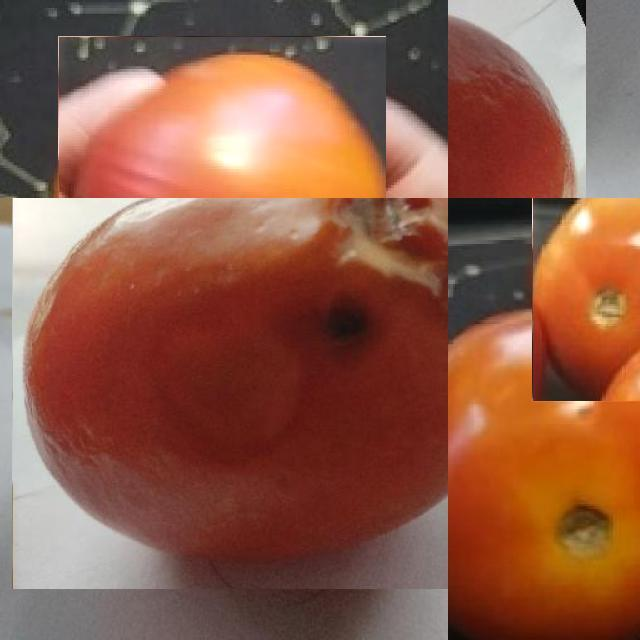Fresh Tomato: (448, 309, 640, 640), (532, 198, 640, 402)
Rotten Tomato: (12, 198, 448, 589), (58, 36, 386, 198), (448, 0, 586, 198)
